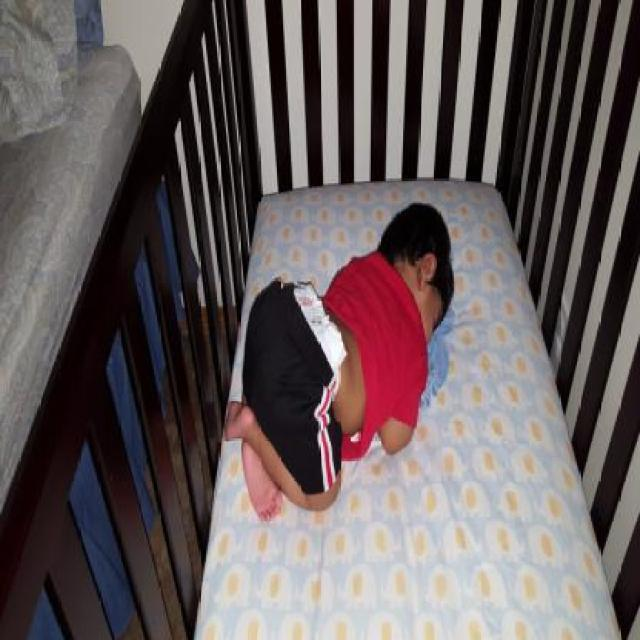baby: (222, 202, 456, 524)
